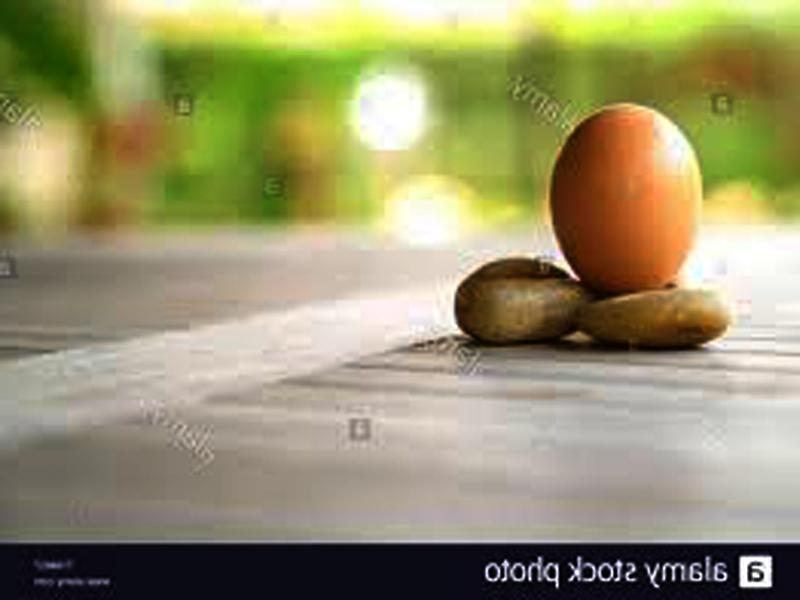Eggs: (549, 106, 704, 294)
